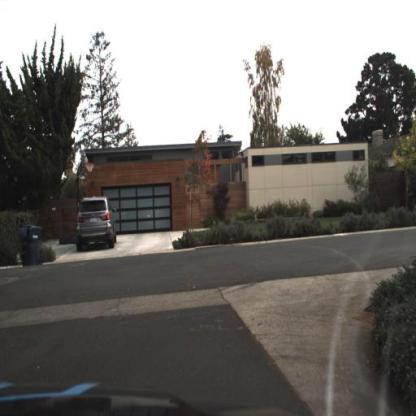car: (73, 190, 119, 253)
